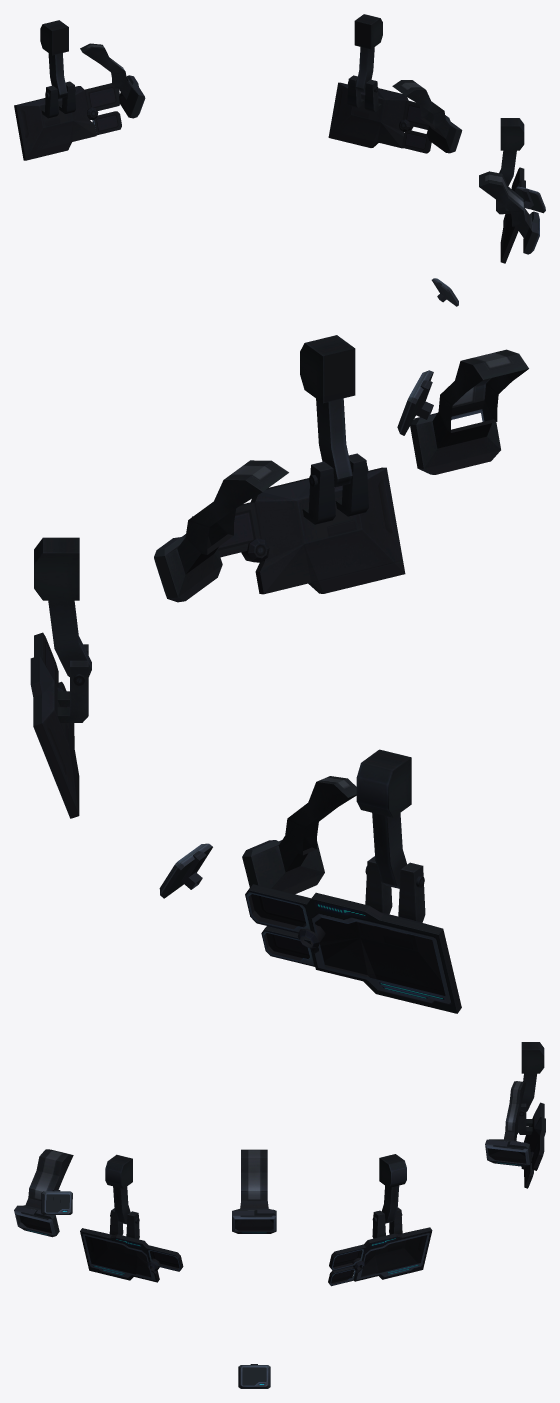
Rendered from ts_cjxsq001.FBX.
3 renders of one model, top to bottom at view 1: azimuth 30°, elevation 25°; view 2: azimuth 150°, elevation 25°; view 3: azimuth 270°, elevation 25°, orthographic. The views are drawn at different scales.
Visible parts, largest first — view 1: ts_cjxsq001; view 2: ts_cjxsq001; view 3: ts_cjxsq001.
Boxes of the visible parts, bbox=[...] form: ts_cjxsq001: bbox=[14, 14, 545, 306]; ts_cjxsq001: bbox=[30, 335, 528, 1013]; ts_cjxsq001: bbox=[14, 1042, 545, 1388].
Bounding box in the file's own units: 5.06 × 3.52 × 7.56.
